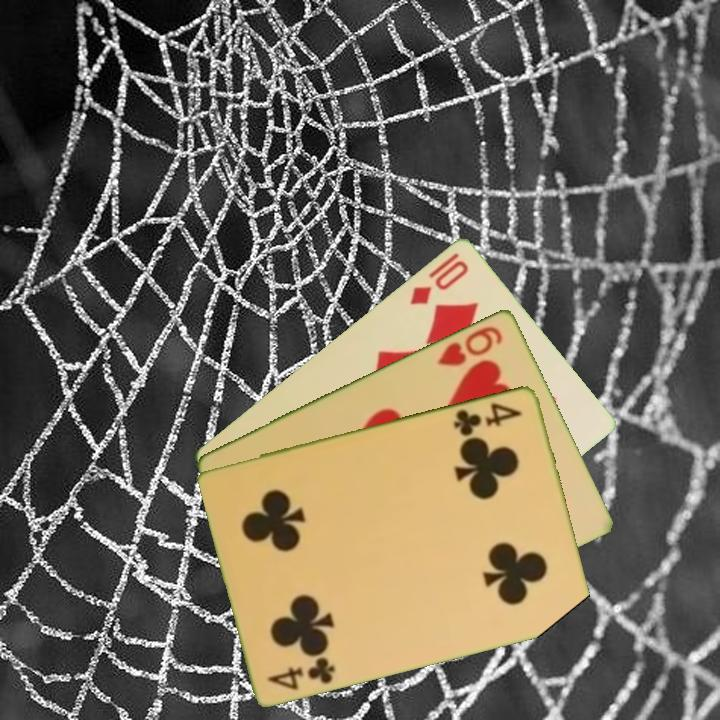10d: (406, 256, 472, 308)
4c: (450, 398, 525, 439), (264, 652, 339, 693)
6h: (434, 322, 506, 369)
